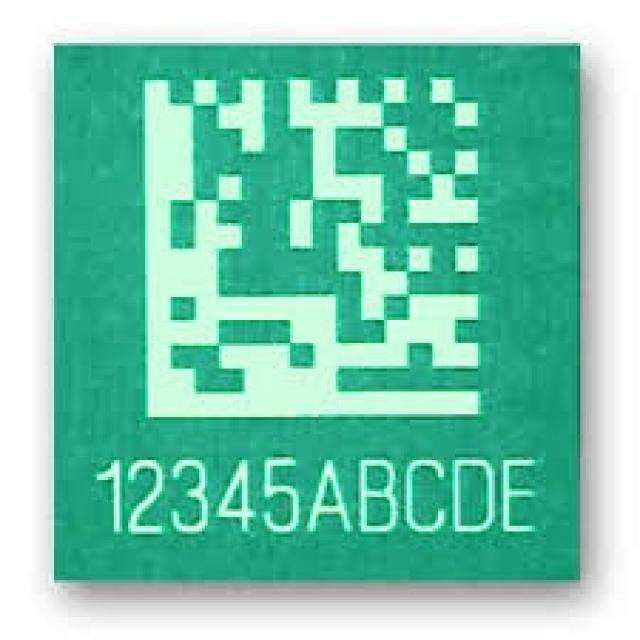datamatrix: (131, 69, 498, 428)
